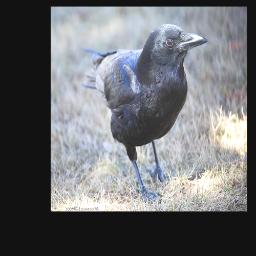Crow: (81, 23, 207, 201)
